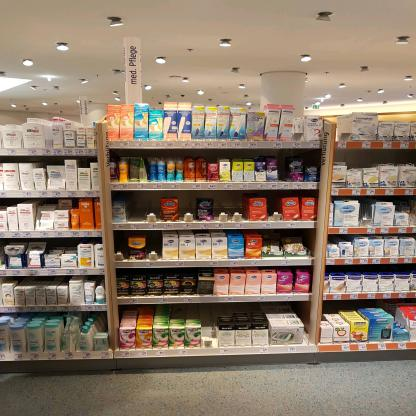Void: (124, 192, 157, 223), (173, 306, 307, 312), (215, 193, 243, 221), (147, 232, 164, 262), (357, 198, 373, 226), (180, 193, 194, 219), (279, 148, 289, 181), (271, 193, 283, 215), (117, 233, 127, 258)
